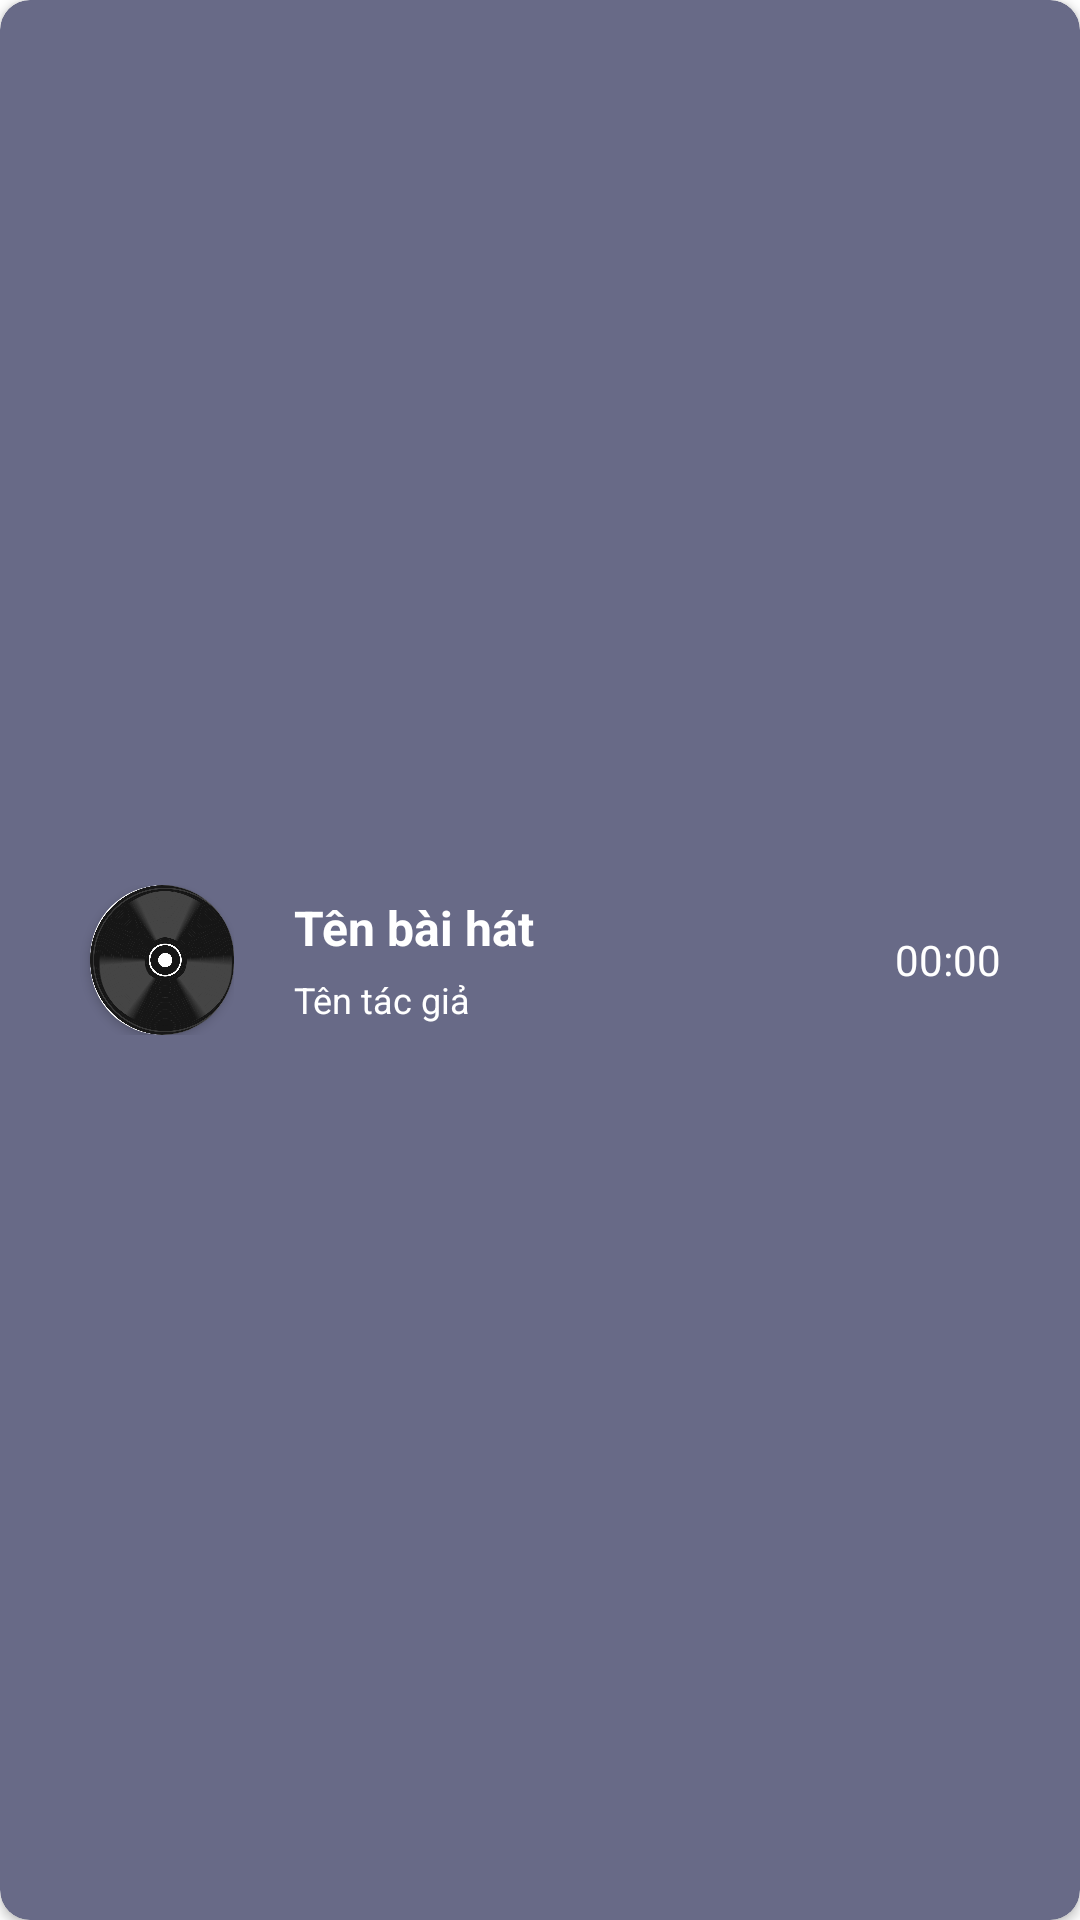

Icons on this 1080 x 1920 Android screen, each with the point to tap as (x=x, y=y):
music: (x=162, y=960)
